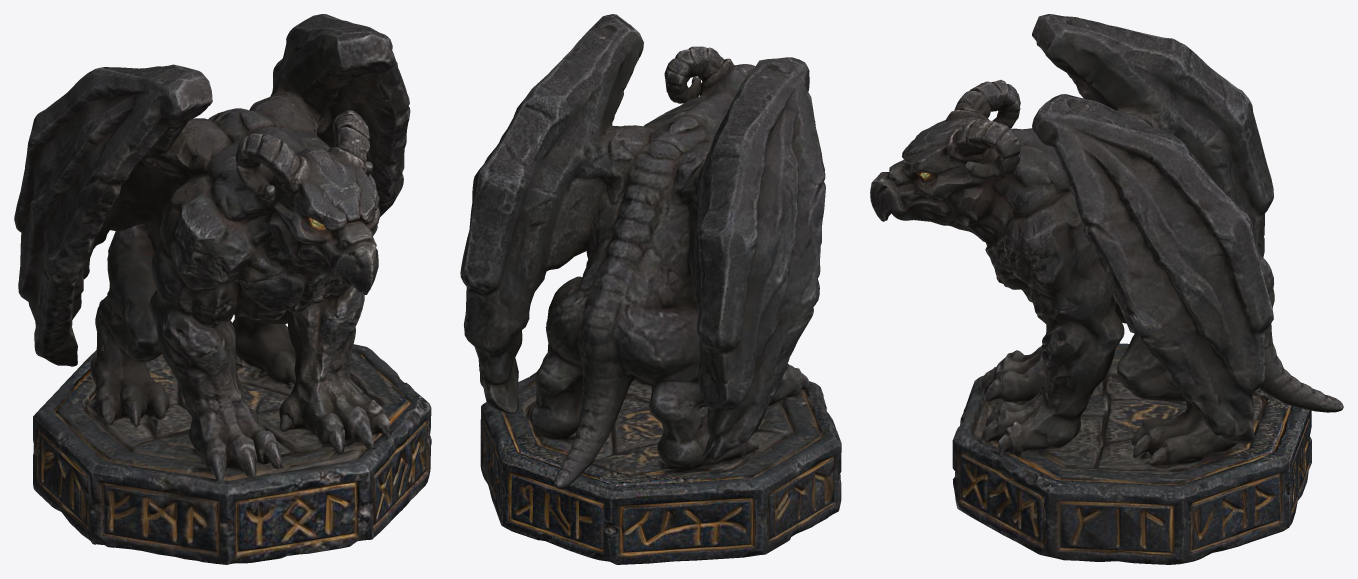
The model's file is grifo_preto.glb.
3 renders of one model, left to right at view 1: azimuth 30°, elevation 25°; view 2: azimuth 150°, elevation 25°; view 3: azimuth 270°, elevation 25°, orthographic. The views are drawn at different scales.
Visible parts, largest first — view 1: tripo_node_5a671390-be0e-4678-82e7-a57776bb09eb; view 2: tripo_node_5a671390-be0e-4678-82e7-a57776bb09eb; view 3: tripo_node_5a671390-be0e-4678-82e7-a57776bb09eb.
Part boxes in pixels (x1,y1,x2,y2): tripo_node_5a671390-be0e-4678-82e7-a57776bb09eb: (14, 14, 431, 564); tripo_node_5a671390-be0e-4678-82e7-a57776bb09eb: (460, 14, 841, 564); tripo_node_5a671390-be0e-4678-82e7-a57776bb09eb: (870, 14, 1343, 564).
Size of the model in its own units: 0.768 by 0.9793 by 0.9705.
1 material, 1 textured.
